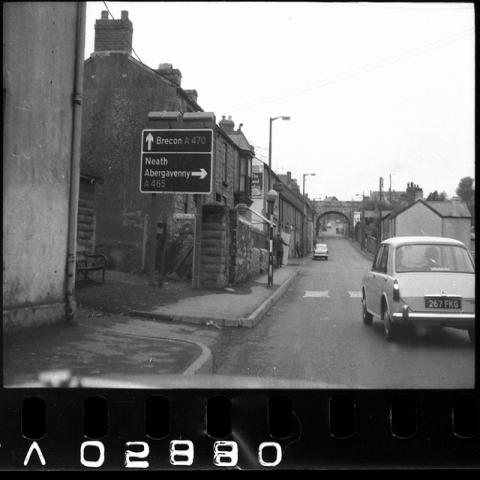car: (361, 236, 476, 343), (313, 243, 329, 260), (337, 226, 344, 235)
